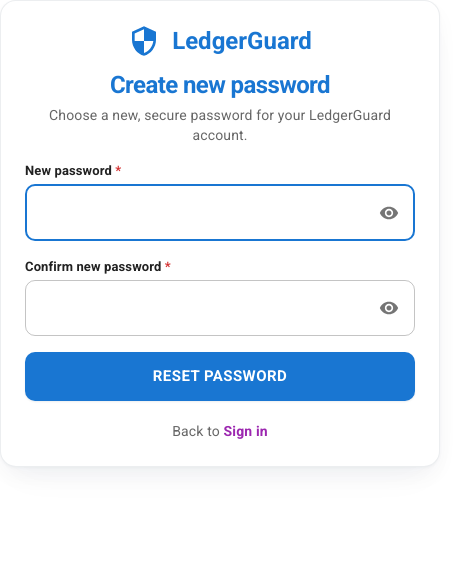
Scenario: Password Recovery and Change Flows › ResetPasswordPage › displays specific invalid token message and link to /forgot-password when API returns INVALID_PASSWORD_RESET_TOKEN
Type "NewStrongPassword123!" into the password field labelled "New password *".
click(196, 213); type("NewStrongPassword123!")  # box [25, 185, 366, 241]
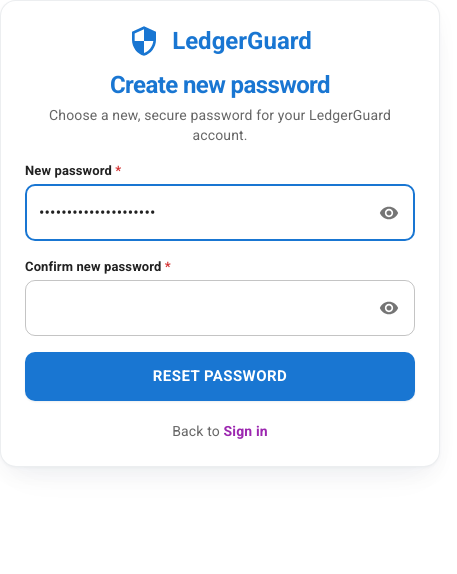
Type "NewStrongPassword123!" into the password field labelled "Confirm new password *".
click(196, 308); type("NewStrongPassword123!")  # box [25, 280, 366, 336]
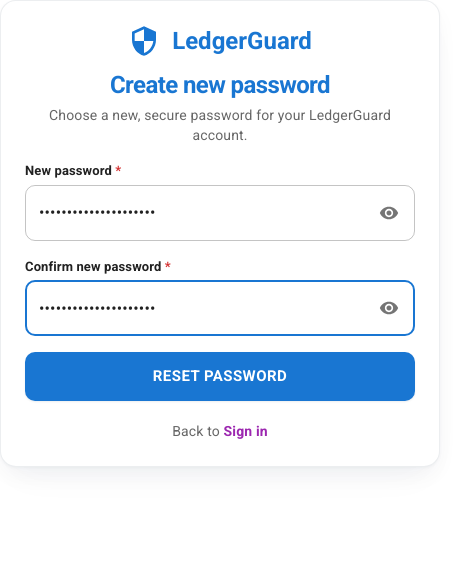
Click the button "Reset password".
click(220, 376)  # box [25, 352, 415, 401]
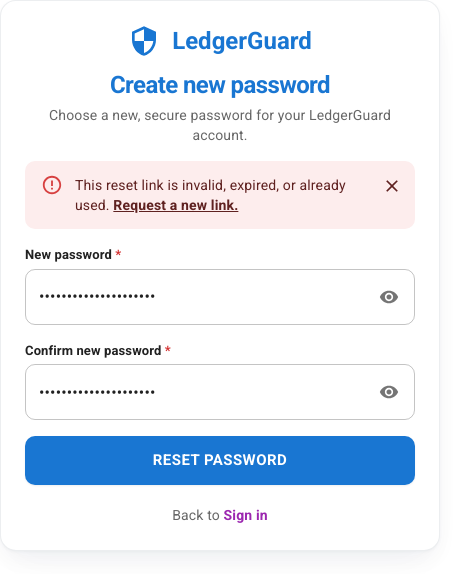
Now the text "This reset link is invalid, expired, or already used." is shown, box [75, 177, 346, 213]
Now the link "Request a new link." is shown, box [113, 197, 238, 213]
